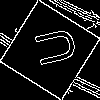U: (25, 25, 78, 71)
